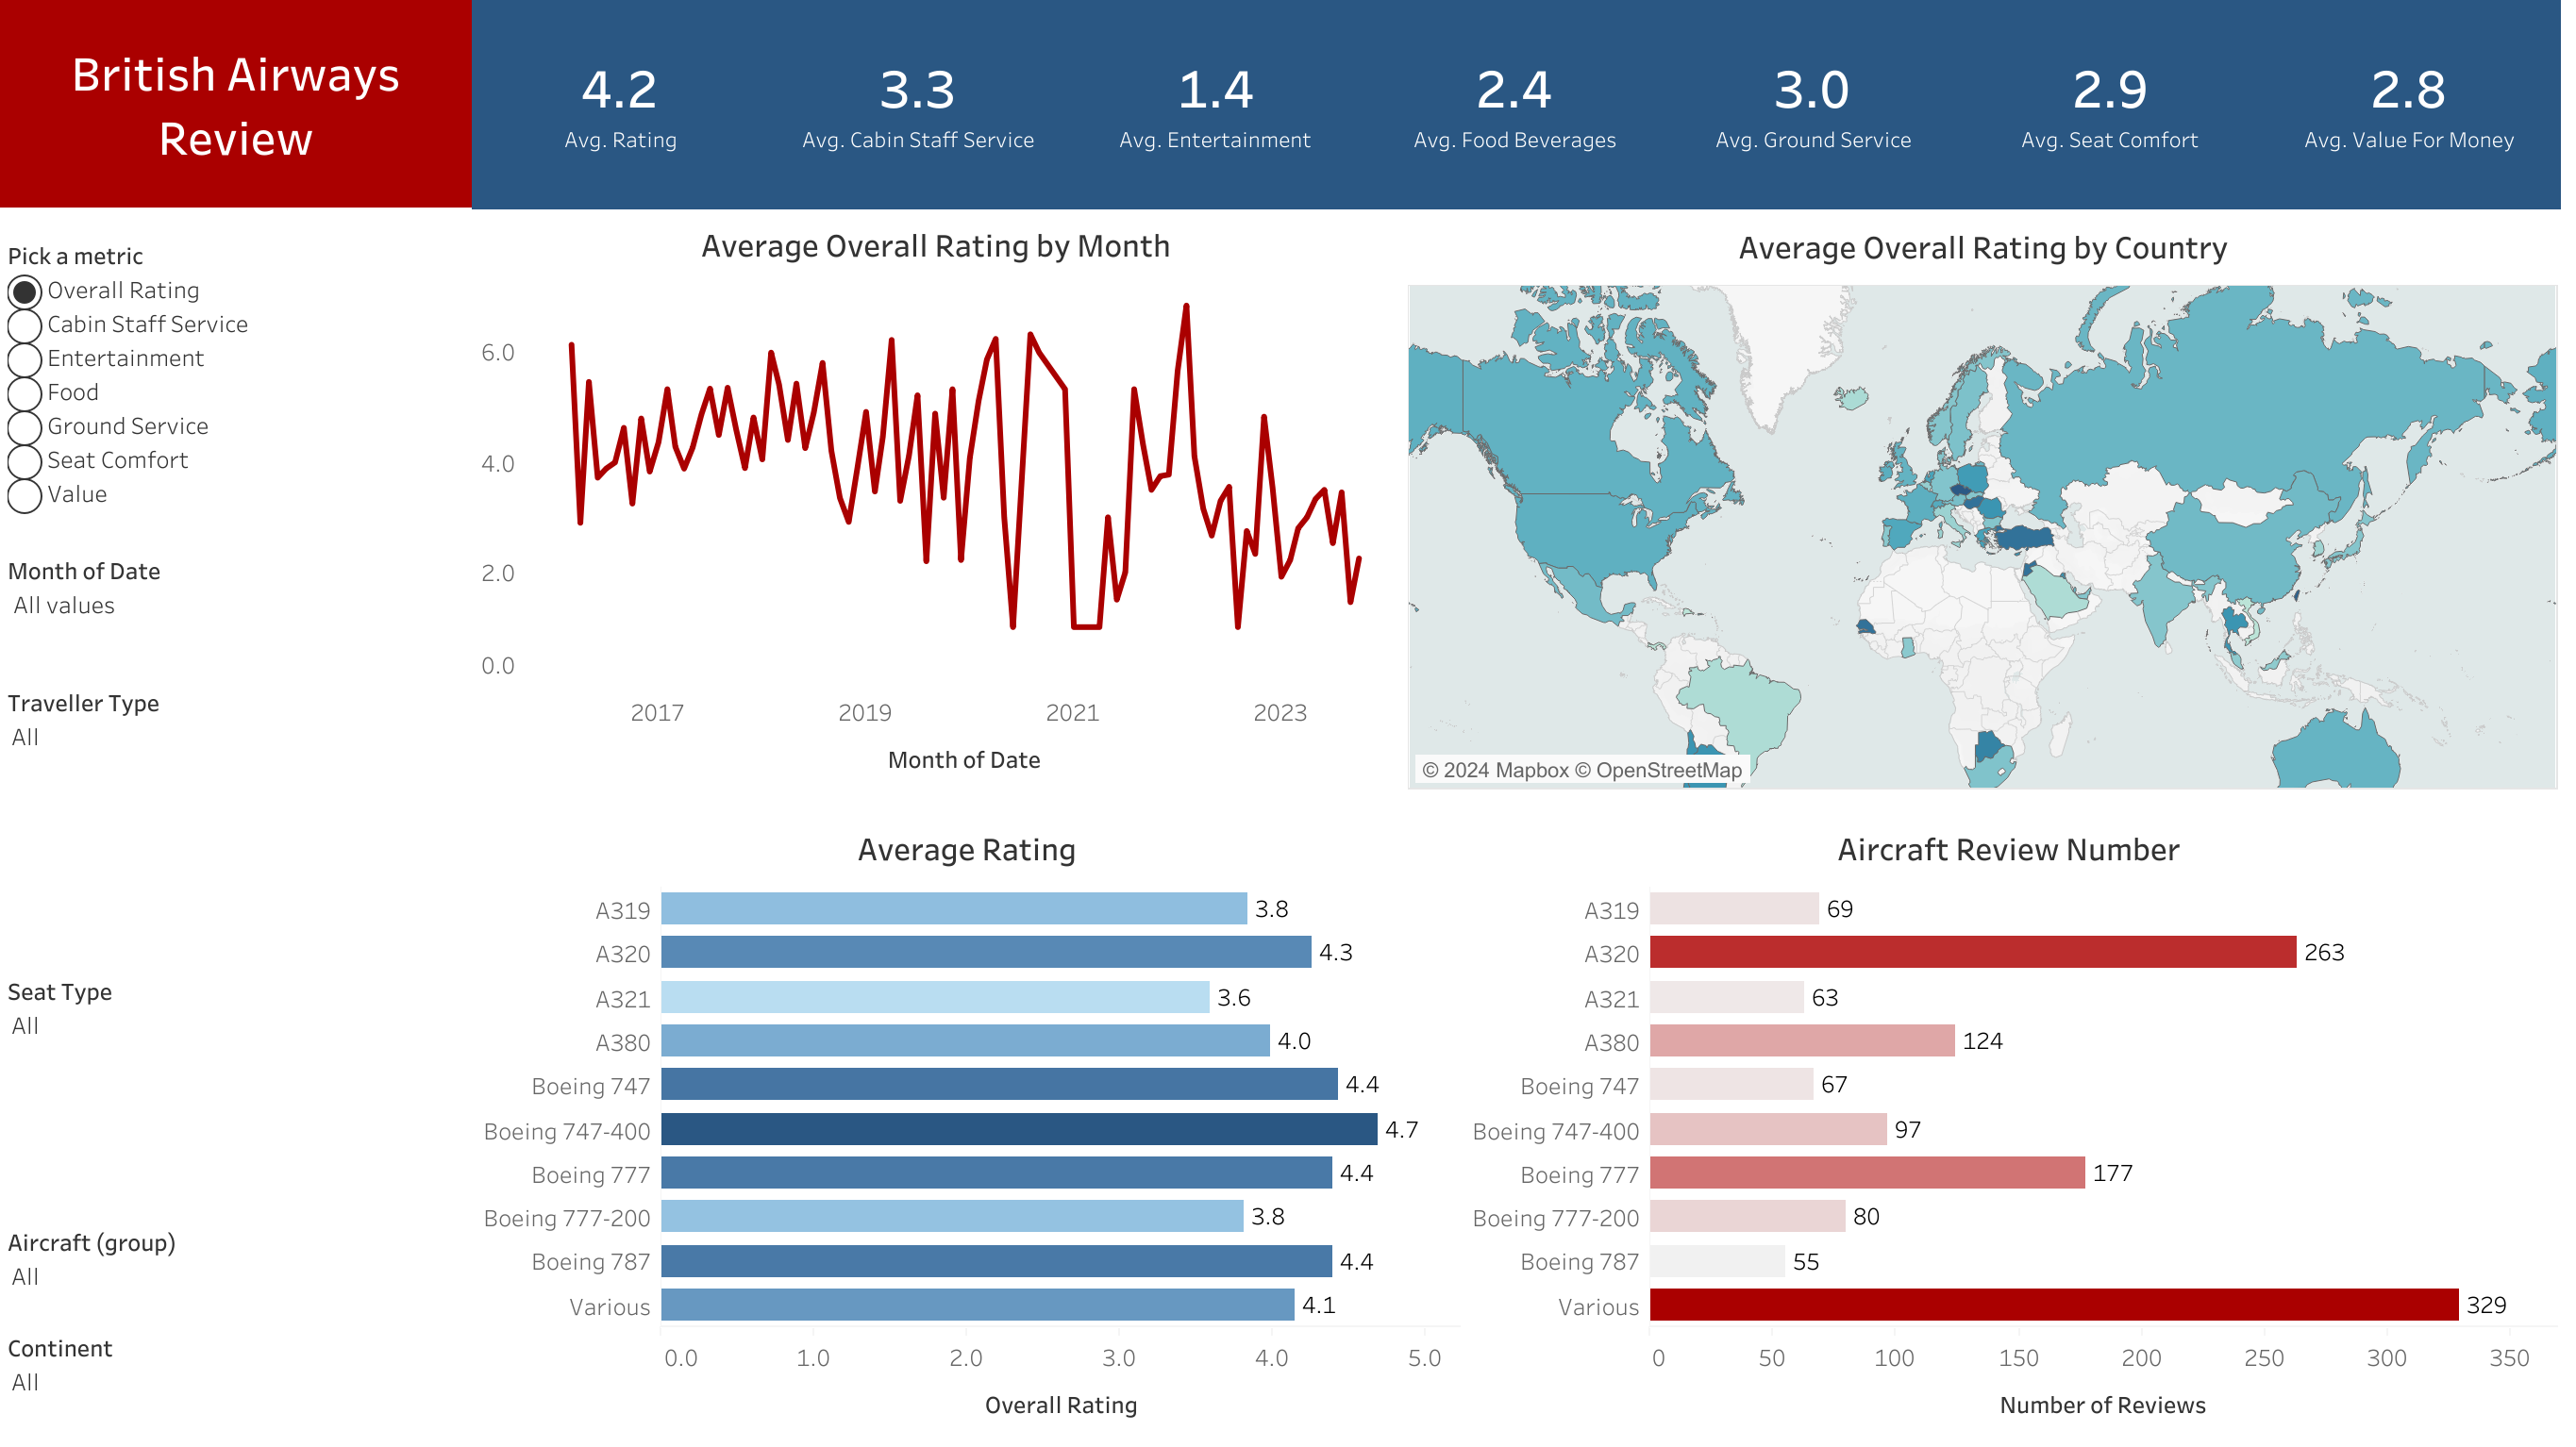

The page's visual inventory and layout, read from the dashboard file:
{"tool":"tableau","page":{"name":"Dashboard 1","canvas":[1366,768],"ordinal":0},"visuals":[{"type":"text","box":[0,0,250.4,109.7]},{"type":"worksheet","title":"Sheet Summary","mark":"Automatic","box":[250.4,0,1105.3,109.7]},{"type":"worksheet","title":"Month","mark":"Automatic","rows":["Calculation_1221882893092499456"],"cols":["date"],"box":[250.4,111.9,491.8,306.1]},{"type":"worksheet","title":"Map","mark":"Automatic","box":[745.6,113,610.2,306.1]},{"type":"parameter","param":"[Parameters].[Parameter 1]","box":[0,120.7,231.1,167]},{"type":"filter","title":"Map","param":"[federated.1lvc4zw18zidel13nhevj0s1yg2t].[tmn:date:qk]","box":[0,287.7,231.1,70]},{"type":"filter","title":"Map","param":"[federated.1lvc4zw18zidel13nhevj0s1yg2t].[none:traveller_type:nk]","box":[0,357.7,231.1,153]},{"type":"worksheet","title":"Aircraft Rating","mark":"Automatic","cols":["Calculation_1221882893092499456"],"box":[250.4,432.3,524.8,328]},{"type":"worksheet","title":"Aircraft Rating Count","mark":"Automatic","cols":["ba_reviews.csv_C59076F1B1EE425DBE14B650FC1499E8"],"box":[774.1,432.3,580.5,328]},{"type":"filter","title":"Map","param":"[federated.1lvc4zw18zidel13nhevj0s1yg2t].[none:seat_type:nk]","box":[0,510.7,231.1,133]},{"type":"filter","title":"Map","param":"[federated.1lvc4zw18zidel13nhevj0s1yg2t].[Aircraft (group)]","box":[0,643.7,231.1,56]},{"type":"filter","title":"Map","param":"[federated.1lvc4zw18zidel13nhevj0s1yg2t].[none:Continent:nk]","box":[0,699.7,231.1,56]}]}

Visuals, with their boxes in screenshot pixels (x1, y1, x2, y2), scaled from the page's 1366x768 canvas onto the 2576x1447 screenshot:
text: (x1=0, y1=0, x2=472, y2=207)
"Sheet Summary" worksheet: (x1=472, y1=0, x2=2556, y2=207)
"Month" worksheet: (x1=472, y1=211, x2=1399, y2=788)
"Map" worksheet: (x1=1406, y1=213, x2=2557, y2=790)
parameter: (x1=0, y1=227, x2=436, y2=542)
"Map" filter: (x1=0, y1=542, x2=436, y2=674)
"Map" filter: (x1=0, y1=674, x2=436, y2=962)
"Aircraft Rating" worksheet: (x1=472, y1=814, x2=1462, y2=1433)
"Aircraft Rating Count" worksheet: (x1=1460, y1=814, x2=2554, y2=1433)
"Map" filter: (x1=0, y1=962, x2=436, y2=1213)
"Map" filter: (x1=0, y1=1213, x2=436, y2=1319)
"Map" filter: (x1=0, y1=1319, x2=436, y2=1423)
